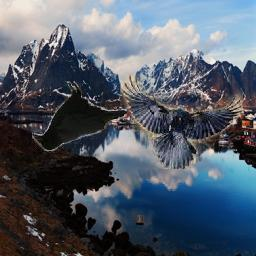Crow: (121, 75, 244, 170), (29, 82, 127, 155)
